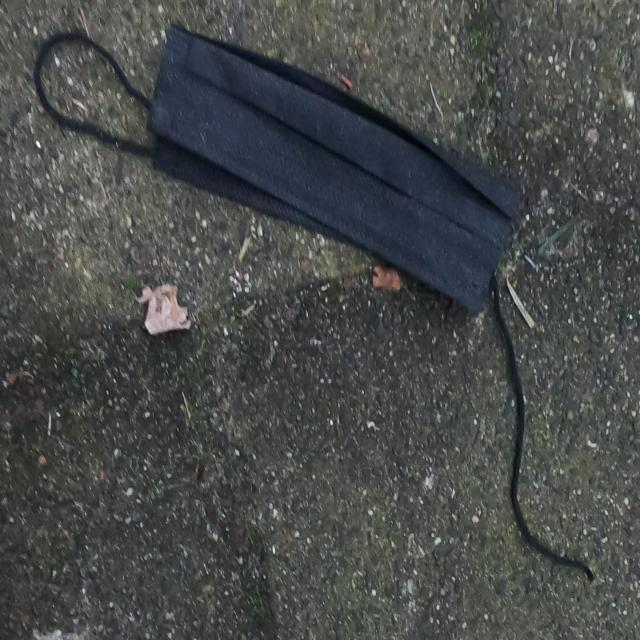Mask: (32, 21, 598, 584)
